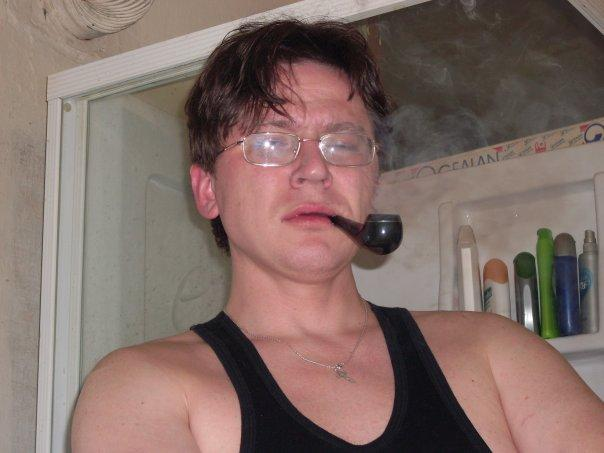trubka: (327, 213, 404, 256)
